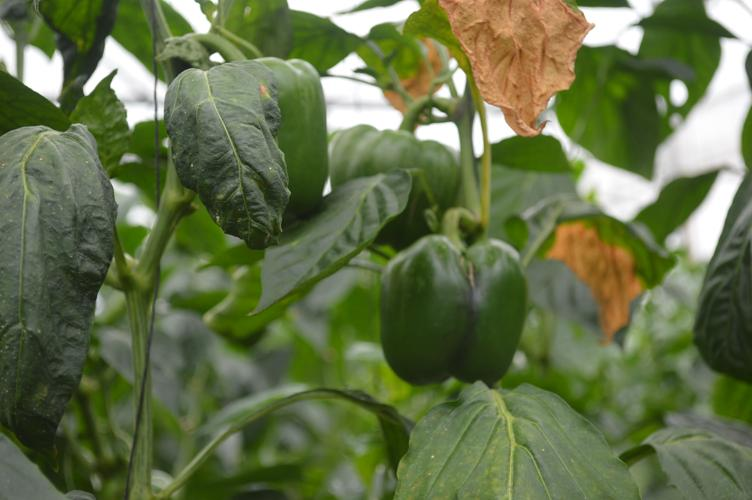BellPepper: (372, 227, 535, 398), (188, 54, 337, 230), (332, 115, 469, 250)
